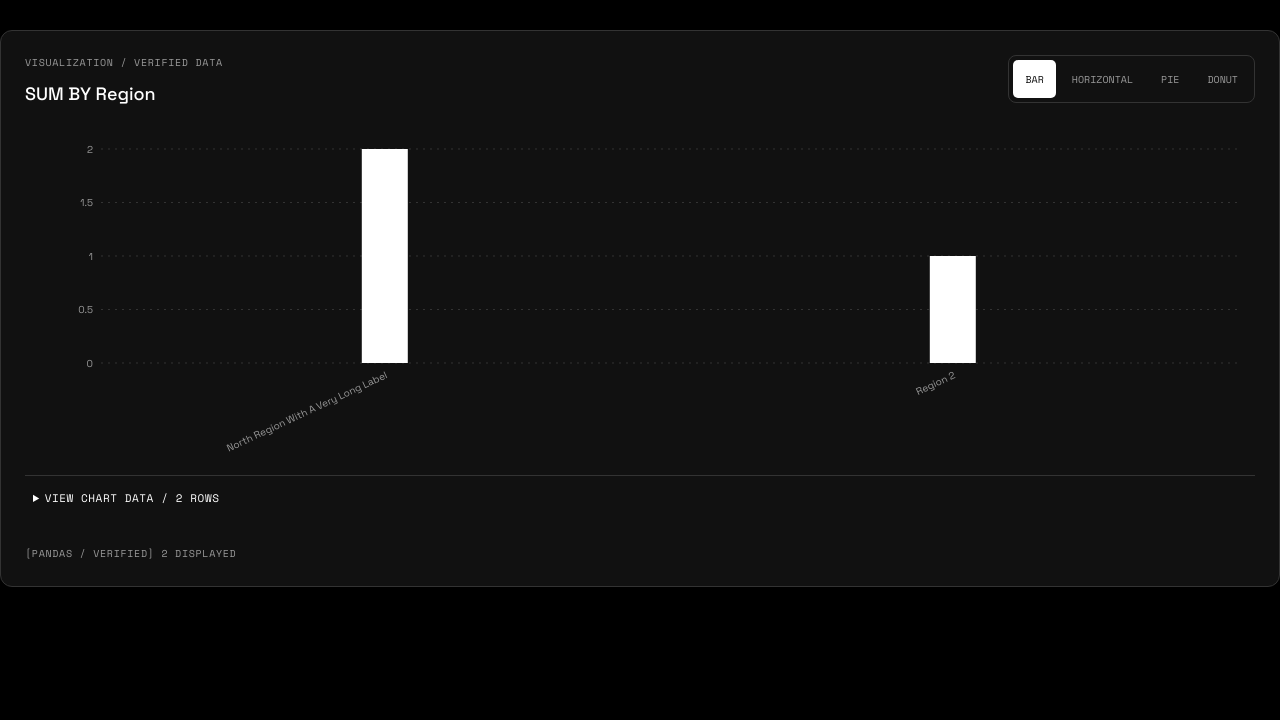
VerifiedChart interactions › keeps chart data available when switching modes
The image size is (1280, 720).
Click the button "HORIZONTAL" at {"x": 1102, "y": 79}, box left=1060, top=60, right=1145, bottom=98
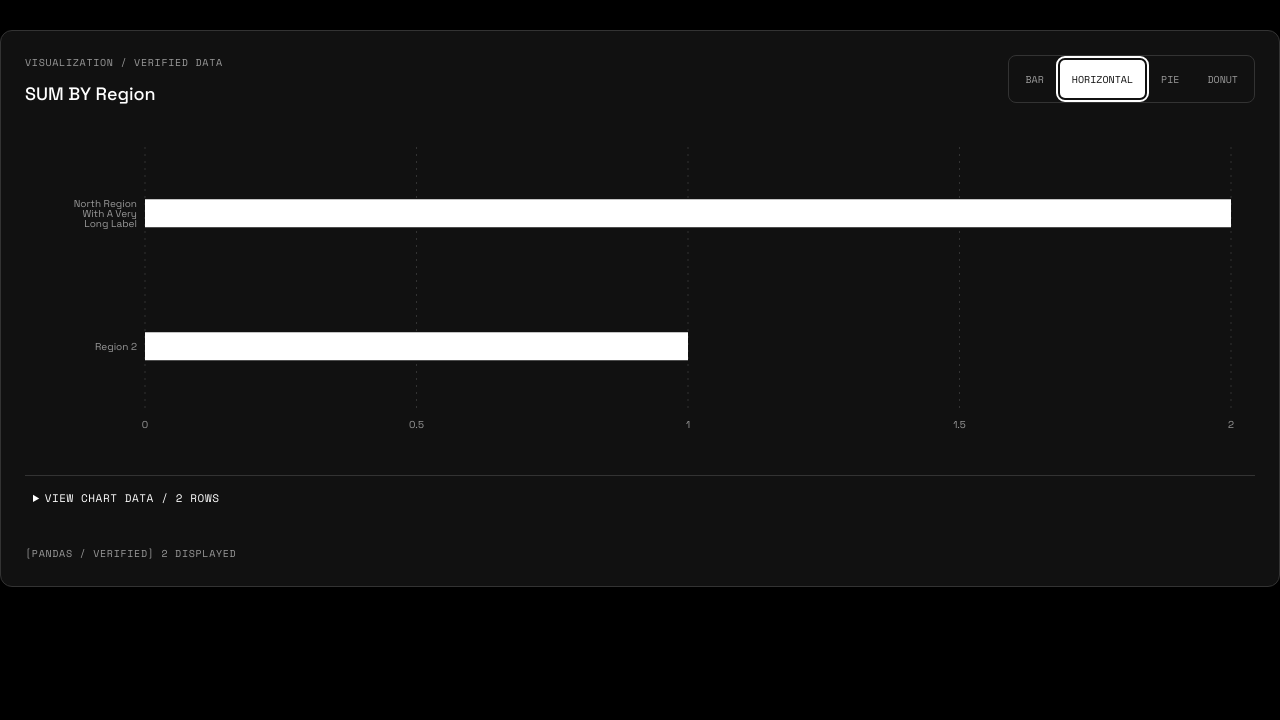
Expected: the element showing "VIEW CHART DATA / 2 ROWS" is shown, left=25, top=475, right=1255, bottom=520
Expected: the element named "horizontal chart of revenue by Region" is shown
